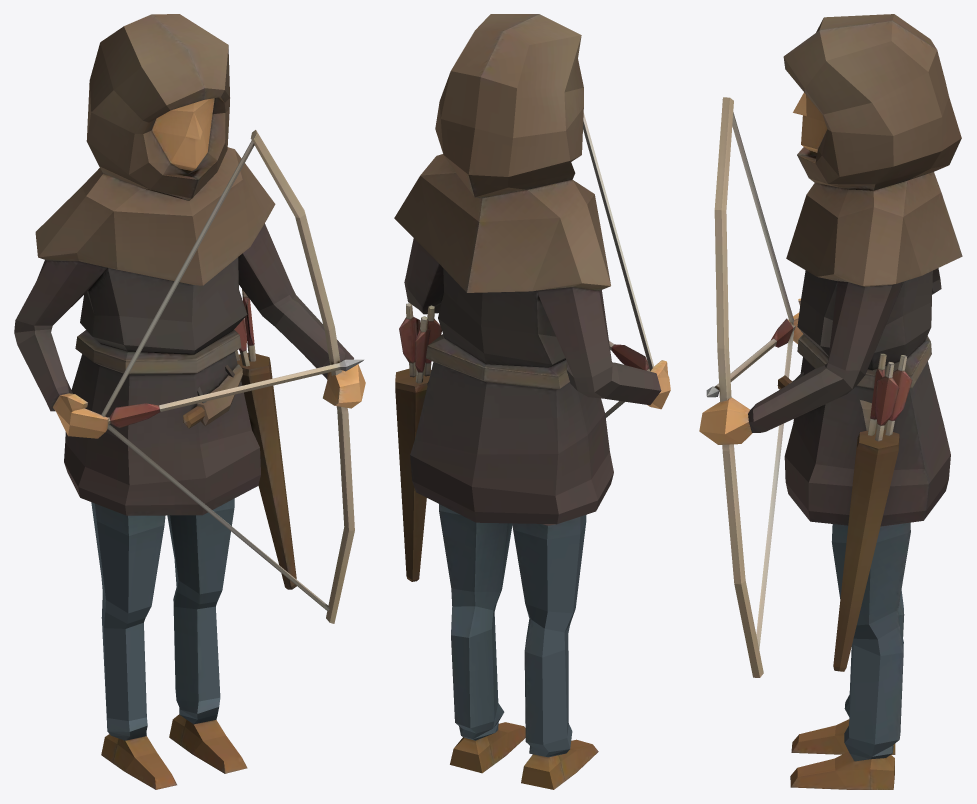
The model's file is 0jlabhnBscv.glb.
3 views of the same model, side by side, from view 1: azimuth 30°, elevation 25°; view 2: azimuth 150°, elevation 25°; view 3: azimuth 270°, elevation 25° (orthographic). The views are drawn at different scales.
Parts seen in each view (by area): view 1: Archer_mesh; view 2: Archer_mesh; view 3: Archer_mesh.
Part boxes in pixels (left/top/right/bottom): Archer_mesh: left=14, top=14, right=365, bottom=789; Archer_mesh: left=394, top=14, right=670, bottom=789; Archer_mesh: left=699, top=14, right=962, bottom=789.
Bounding box in the file's own units: 4.29 × 11.27 × 3.62.
1 material, 1 textured.
